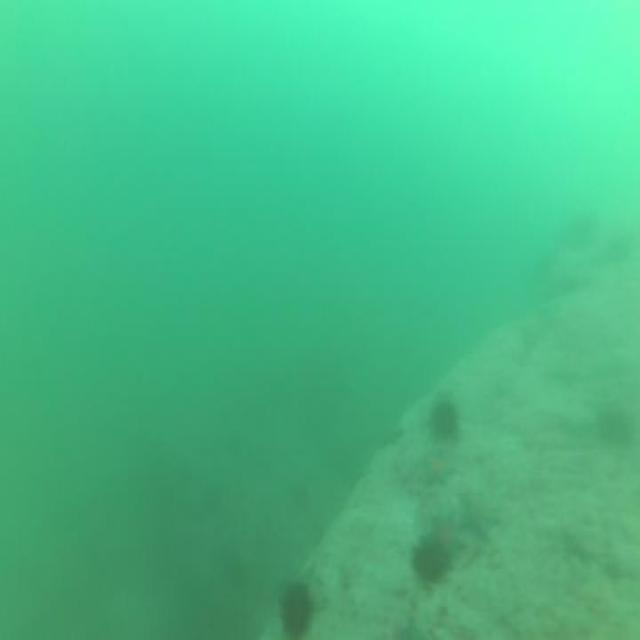echinus: (272, 569, 321, 640), (411, 531, 452, 593), (426, 392, 465, 444), (596, 400, 634, 453)
starfish: (457, 484, 501, 544), (428, 507, 466, 564), (416, 446, 459, 492)
